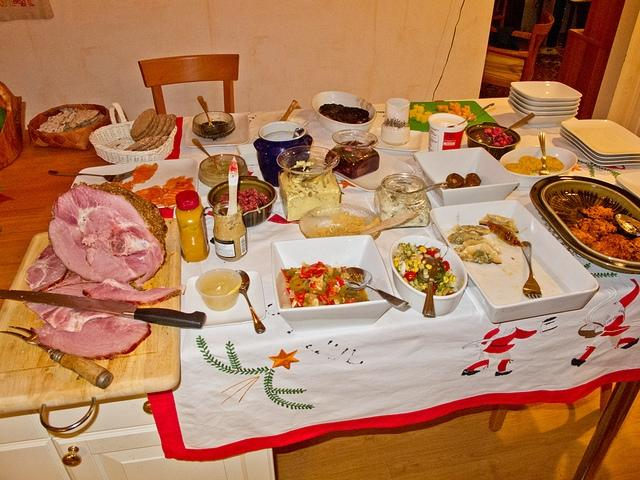corn: (449, 274, 456, 282), (420, 246, 427, 253), (414, 261, 418, 268), (394, 261, 398, 267), (411, 258, 414, 262)
